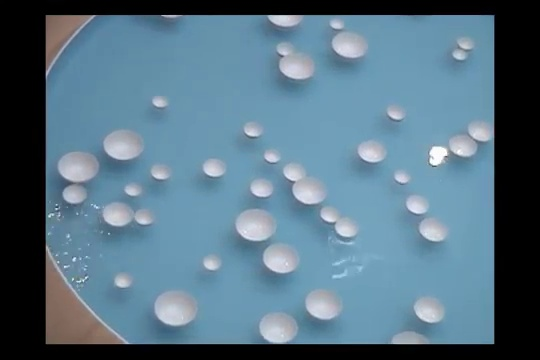bowl: (154, 290, 198, 326), (235, 208, 277, 243), (103, 129, 144, 161), (57, 151, 99, 182), (304, 288, 343, 319), (259, 312, 298, 343), (262, 243, 299, 273), (331, 31, 368, 60), (292, 177, 328, 205), (278, 54, 315, 81), (413, 297, 444, 323), (418, 218, 449, 242), (103, 202, 134, 226), (448, 135, 479, 158), (357, 140, 388, 163), (389, 330, 432, 344), (467, 120, 493, 142), (267, 14, 304, 29), (61, 184, 87, 203), (406, 195, 430, 215), (282, 163, 308, 181), (335, 218, 358, 238), (202, 158, 226, 177), (250, 179, 273, 197), (150, 164, 173, 180), (386, 105, 408, 121), (134, 209, 155, 225), (320, 206, 340, 222), (243, 122, 264, 137), (203, 254, 222, 270), (124, 182, 143, 197), (456, 37, 476, 50), (276, 41, 294, 55), (264, 149, 282, 163), (115, 273, 133, 287), (394, 170, 411, 184), (152, 95, 169, 108), (452, 49, 469, 61), (329, 19, 346, 29)
